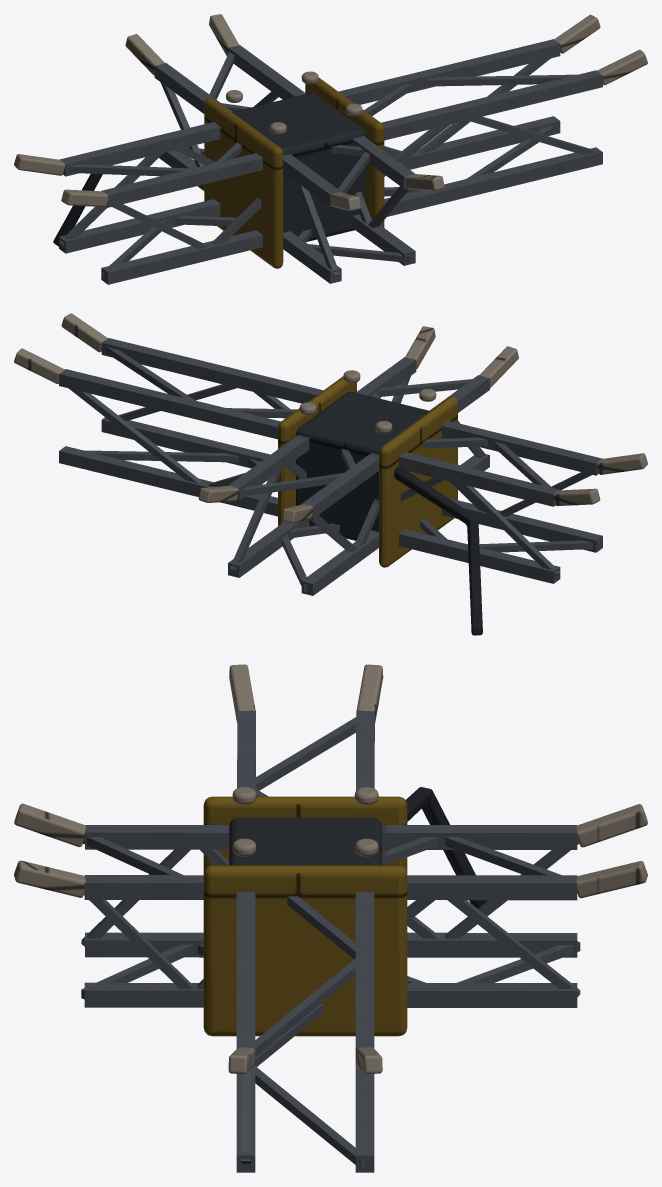
File: cargo-snapped-truss-node_lod0.glb
3 renders of one model, top to bottom at view 1: azimuth 30°, elevation 25°; view 2: azimuth 150°, elevation 25°; view 3: azimuth 270°, elevation 25°, orthographic. The views are drawn at different scales.
Parts seen in each view (by area): view 1: LOD0_Mechanical, LOD0_Livery, LOD0_Armor, LOD0_BrushedMetal, LOD0_MechanicalDark; view 2: LOD0_Mechanical, LOD0_Livery, LOD0_Armor, LOD0_BrushedMetal, LOD0_MechanicalDark; view 3: LOD0_Mechanical, LOD0_Livery, LOD0_BrushedMetal, LOD0_Armor, LOD0_MechanicalDark.
Boxes of the visible parts, x1,y1,x2,y2 form: LOD0_Mechanical: (59, 39, 602, 284); LOD0_Livery: (204, 77, 384, 268); LOD0_Armor: (232, 93, 365, 241); LOD0_BrushedMetal: (14, 14, 647, 210); LOD0_MechanicalDark: (53, 173, 102, 246); LOD0_Mechanical: (59, 338, 602, 595); LOD0_Livery: (278, 376, 457, 567); LOD0_Armor: (296, 391, 429, 540); LOD0_BrushedMetal: (14, 313, 647, 523); LOD0_MechanicalDark: (394, 466, 482, 635); LOD0_Mechanical: (81, 710, 580, 1172); LOD0_Livery: (203, 796, 407, 1036); LOD0_BrushedMetal: (14, 664, 647, 1074); LOD0_Armor: (229, 817, 381, 865); LOD0_MechanicalDark: (405, 787, 487, 908).
Bounding box in the file's own units: 2.77 × 0.6816 × 1.87.
5 materials, 5 textured.
